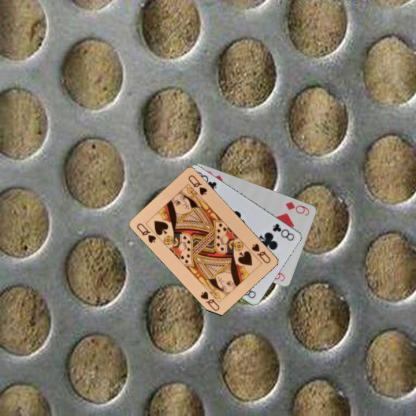6d: (282, 198, 311, 216)
8c: (270, 221, 296, 242)
Qs: (249, 241, 272, 265), (134, 221, 158, 244)
